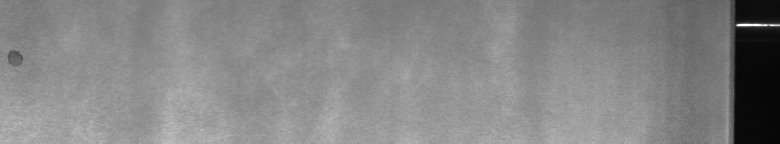fi: (4, 44, 24, 72)
